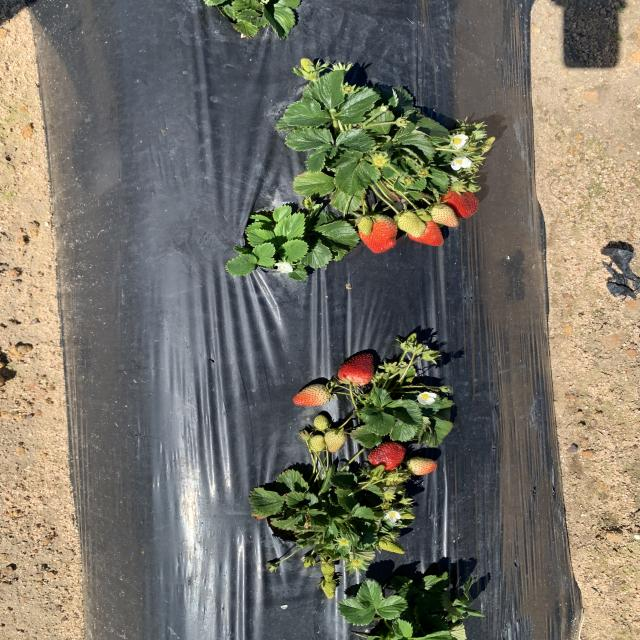unripe: (440, 179, 480, 219), (358, 213, 395, 254), (337, 351, 379, 386), (366, 442, 406, 469), (409, 222, 446, 249)
